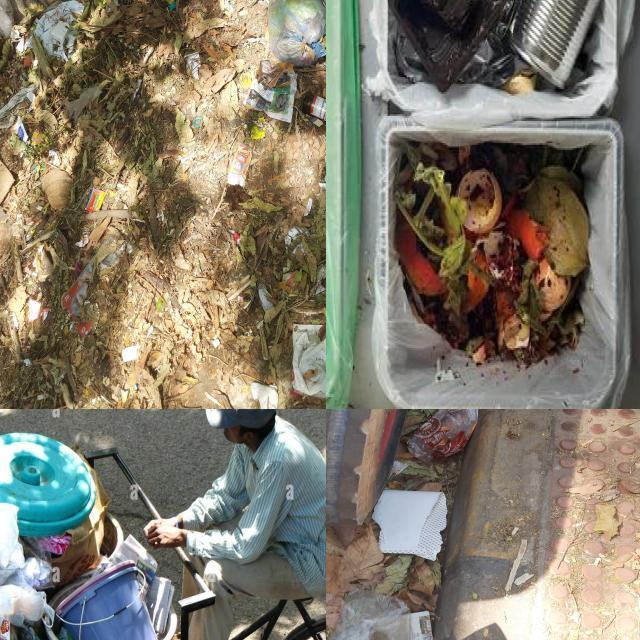Cig_pack: (228, 145, 252, 187)
Disposable: (285, 227, 308, 246), (293, 243, 305, 255)
Garbage: (381, 140, 594, 392), (0, 434, 177, 640), (326, 409, 476, 640)
Glass_bottle: (302, 92, 326, 123)
Mask: (258, 283, 277, 311)
Metal: (511, 0, 599, 88)
Plastic: (389, 0, 515, 92), (0, 432, 97, 536), (57, 561, 158, 640)
Plastic_Bag: (408, 409, 478, 467), (329, 590, 410, 640), (268, 0, 326, 67), (0, 558, 54, 627), (33, 0, 83, 58), (293, 325, 326, 399), (0, 503, 25, 586), (62, 259, 96, 317), (99, 243, 132, 269), (250, 382, 278, 409), (99, 245, 125, 269), (0, 210, 12, 259), (77, 322, 92, 338), (104, 234, 120, 245), (104, 234, 120, 243)
Plastic_wraper: (86, 188, 106, 211), (13, 116, 28, 143), (26, 299, 41, 322), (120, 385, 137, 403), (0, 620, 12, 640), (250, 125, 265, 139), (11, 27, 20, 41), (38, 162, 49, 171), (42, 308, 49, 322), (233, 232, 240, 245), (164, 0, 175, 4), (258, 116, 265, 122)
Thermocol: (51, 22, 69, 43)
contaminated_waste: (388, 0, 603, 92)
